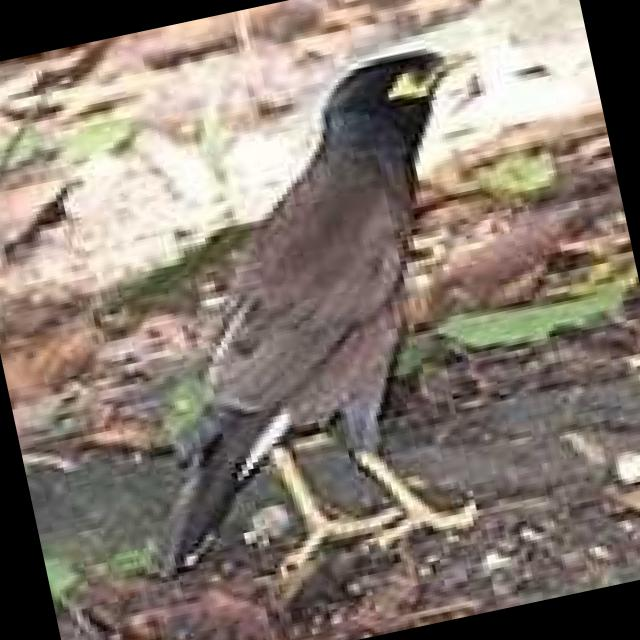bird: (56, 11, 580, 614)
